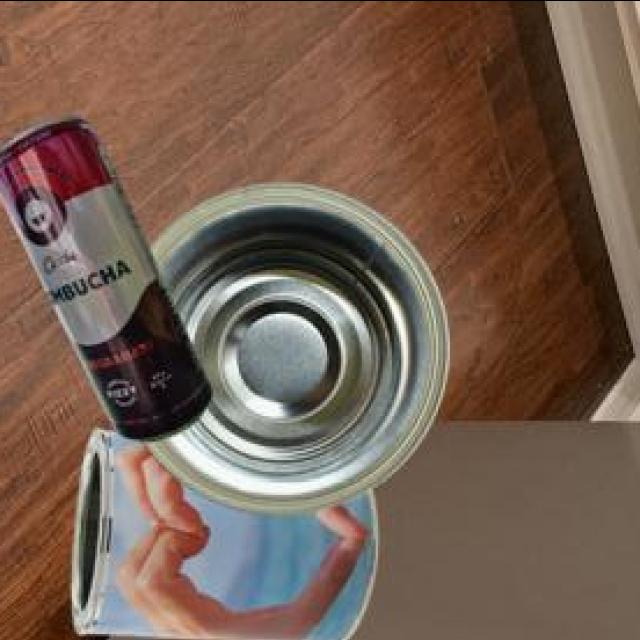logam: (147, 177, 453, 511), (0, 112, 214, 437), (75, 426, 381, 640)
